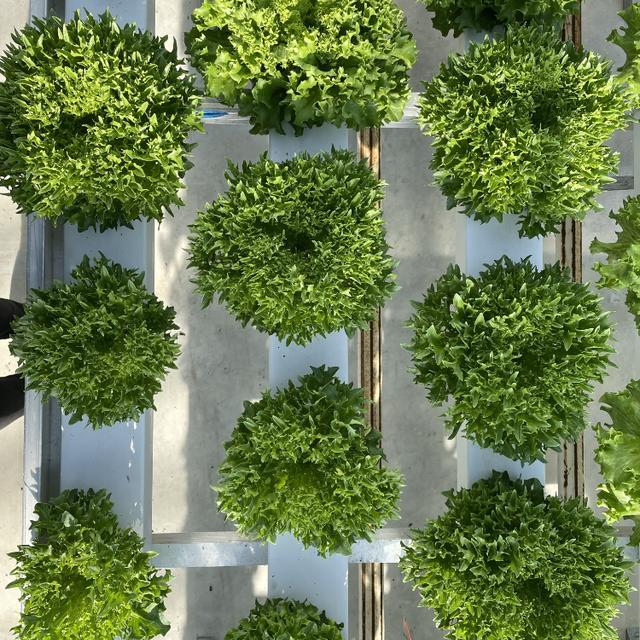Lettuce: (415, 23, 632, 244), (0, 5, 203, 235), (190, 148, 395, 350), (410, 255, 615, 455), (400, 468, 638, 640), (213, 365, 402, 558), (176, 0, 419, 136), (10, 250, 185, 427), (0, 486, 176, 639), (228, 591, 349, 640)
